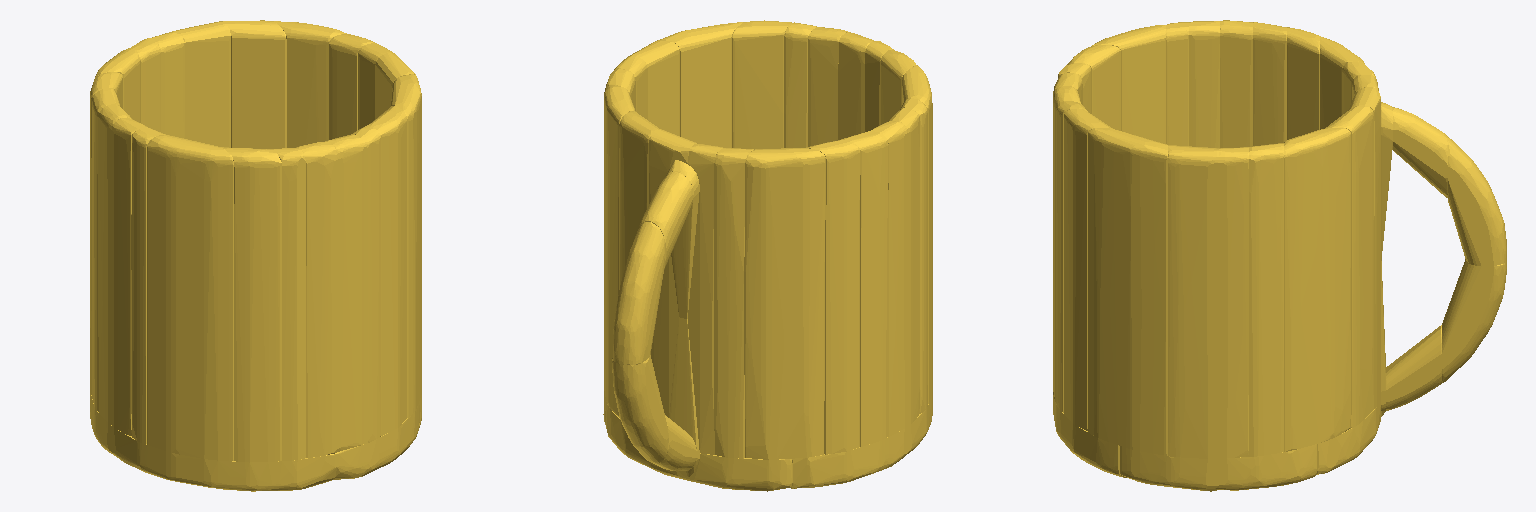
URDF robot description (186.urdf):
<?xml version="1.0" ?>
<robot name="186.urdf">
	<link name="baseLink">
		<inertial>
			<origin rpy="0 0 0" xyz="0 0 0"/>
				<mass value="0.1"/>
				<inertia ixx="6e-5" ixy="0" ixz="0" iyy="6e-5" iyz="0" izz="6e-5"/>
		</inertial>
		<visual>
			<origin rpy="0 0 0" xyz="0 0 0"/>
			<geometry>
				<mesh filename="4_decom_wt.obj" scale="1.00 1.00 0.88"/>
			</geometry>
			<material name="yellow">
				<color rgba="0.98 0.84 0.35 1"/>
			</material>
		</visual>
		<collision>
			<origin rpy="0 0 0" xyz="0 0 0"/>
			<geometry>
				<mesh filename="4_decom_wt.obj" scale="1.00 1.00 0.88"/>
			</geometry>
		</collision>
	</link>
</robot>

--- What the picture shows (computed from the rendered views, not written in the file) ---
3 views of the same robot in one strip: view 1: azimuth 30°, elevation 25°; view 2: azimuth 150°, elevation 25°; view 3: azimuth 270°, elevation 25° (orthographic).
Model 186.urdf with 1 links and 0 joints (none), rooted at baseLink, posed all joints at 0.
Links seen in each view (by area): view 1: baseLink; view 2: baseLink; view 3: baseLink.
Link boxes in pixels (x1,y1,x2,y2): baseLink: (90,20,421,491); baseLink: (603,20,932,491); baseLink: (1053,20,1506,491).
Size in the robot's own frame: 0.0838 by 0.1162 by 0.0956 metres.
Meshes: 1 distinct files referenced, 1 mesh visuals loaded (1 OBJ).